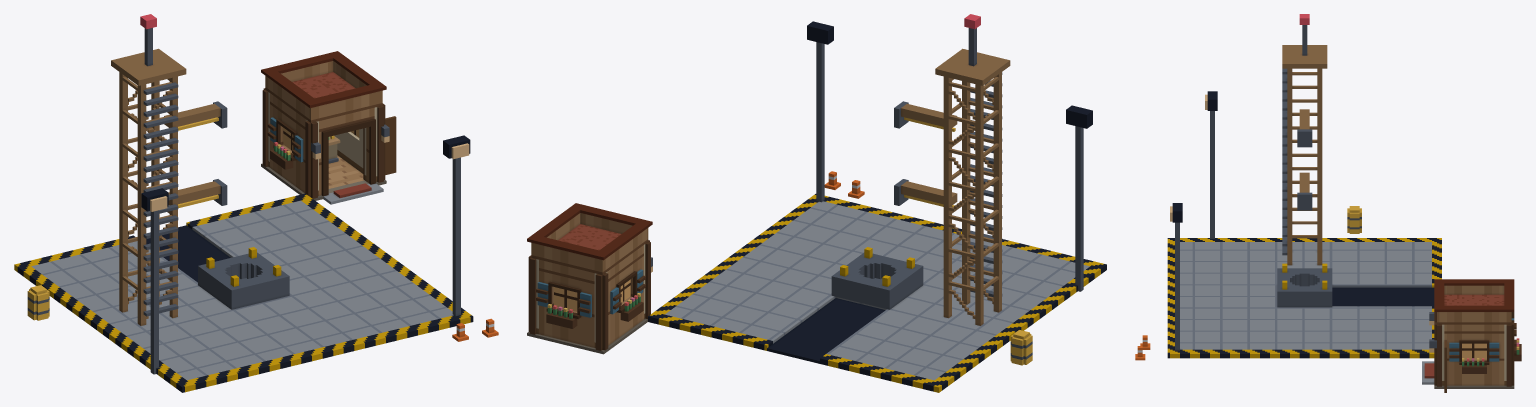
The model's file is pad_e1_l1.glb.
3 views of the same model, side by side, from view 1: azimuth 30°, elevation 25°; view 2: azimuth 150°, elevation 25°; view 3: azimuth 270°, elevation 25° (orthographic). The views are drawn at different scales.
Parts seen in each view (by area): view 1: Base, CutRoof, CutPZ, CutNX; view 2: Base, CutRoof, CutNZ, CutNX; view 3: Base, CutRoof, CutPX, CutPZ, CutNZ.
Part boxes in pixels (<box>): Base: <box>14,14,498,392</box>; CutRoof: <box>261,51,386,122</box>; CutPZ: <box>305,103,396,173</box>; CutNX: <box>267,93,306,168</box>; Base: <box>527,14,1106,392</box>; CutRoof: <box>527,203,652,274</box>; CutNZ: <box>528,255,608,325</box>; CutNX: <box>607,245,645,320</box>; Base: <box>1135,14,1521,392</box>; CutRoof: <box>1434,279,1514,324</box>; CutPX: <box>1444,324,1504,369</box>; CutPZ: <box>1429,312,1446,372</box>; CutNZ: <box>1504,312,1521,366</box>.
Bounding box in the file's own units: 15.9 × 10.9 × 15.5.
